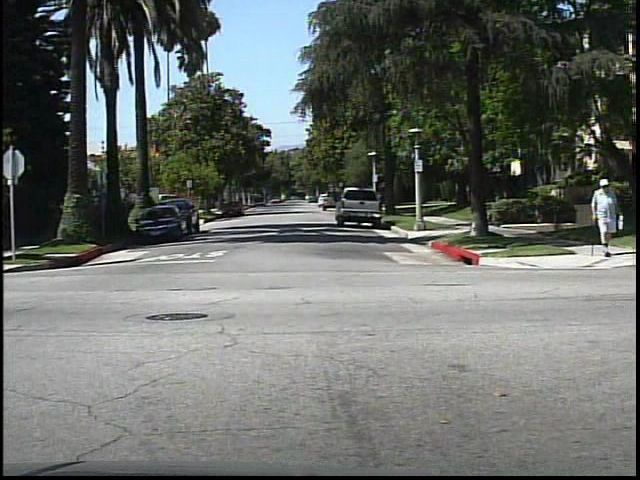person: (590, 174, 625, 259)
